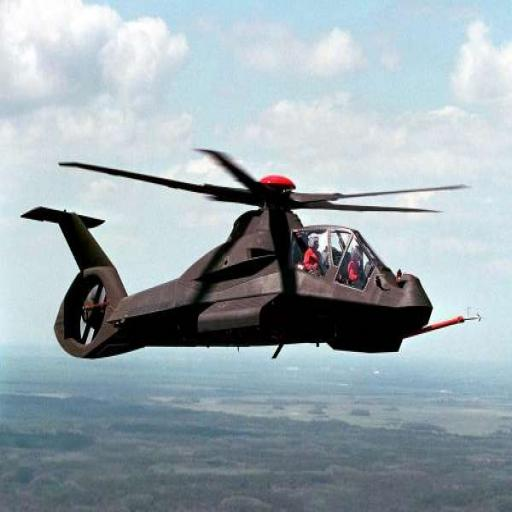helicopter: (15, 138, 483, 366)
